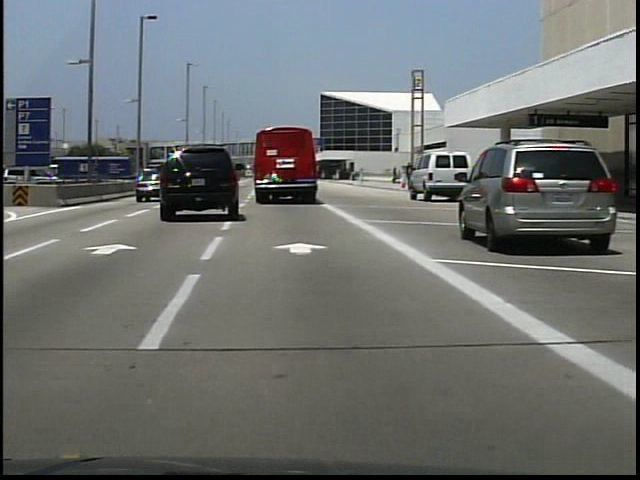person: (404, 162, 416, 195)
